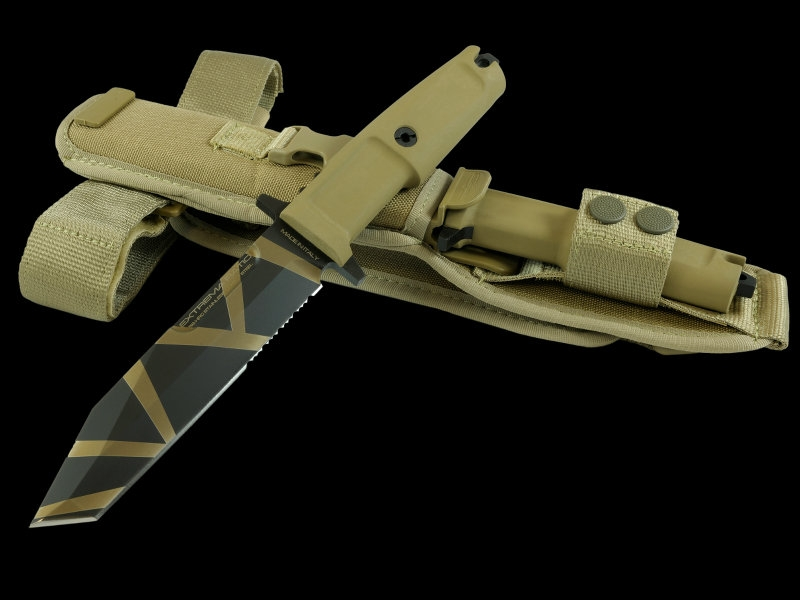knife: (19, 207, 341, 552)
